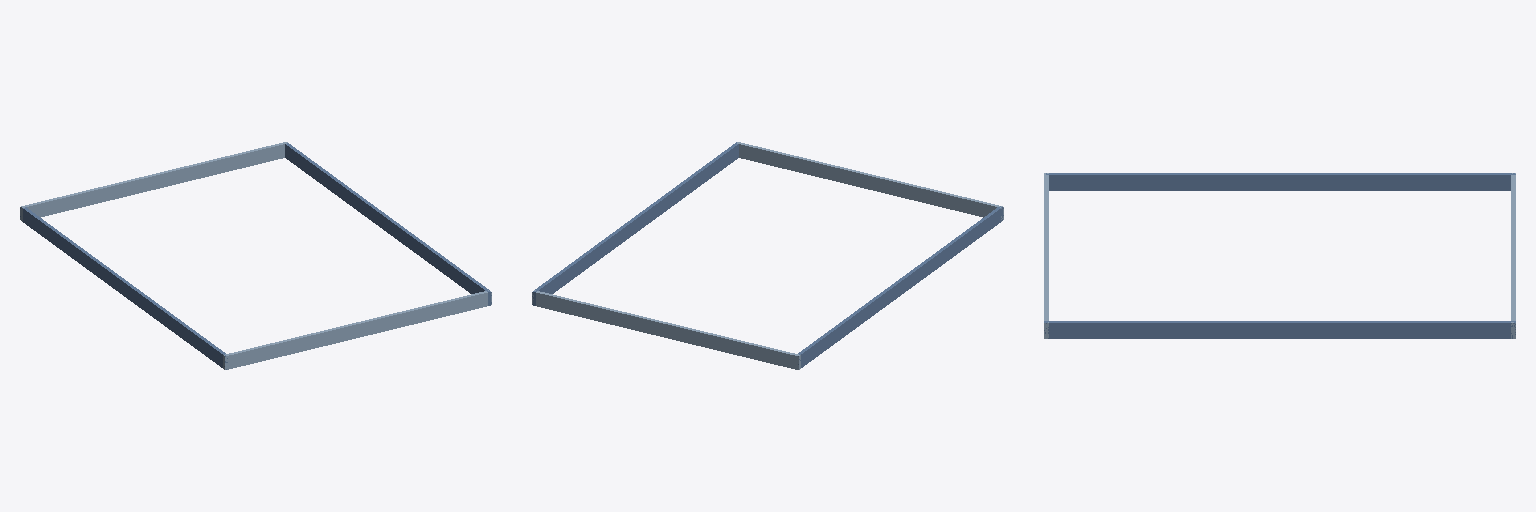
robot.urdf — small_room:
<?xml version="1.0"?>
<robot name="small_room">
  <!--
    A simple open-top room built from primitive boxes.
    Room footprint: 6m x 8m
    Wall height: 0.3m
    Wall thickness: 0.08m
    Visual style: cool gray / blue, intentionally not wooden.
  -->

  <material name="RoomFloor">
    <color rgba="0.88 0.89 0.91 1.0"/>
  </material>

  <material name="RoomWall">
    <color rgba="0.62 0.70 0.78 1.0"/>
  </material>

  <material name="RoomWallAccent">
    <color rgba="0.45 0.55 0.68 1.0"/>
  </material>

  <link name="base_link">
    <inertial>
      <origin xyz="0 0 0" rpy="0 0 0"/>
      <mass value="0.1"/>
      <inertia ixx="1e-4" ixy="0" ixz="0" iyy="1e-4" iyz="0" izz="1e-4"/>
    </inertial>
  </link>

  <!-- North wall -->
  <link name="north_wall">
    <inertial>
      <origin xyz="0 0 0" rpy="0 0 0"/>
      <mass value="2.0"/>
      <inertia ixx="0.02" ixy="0" ixz="0" iyy="0.02" iyz="0" izz="0.02"/>
    </inertial>
    <visual>
      <origin xyz="0 0 0" rpy="0 0 0"/>
      <geometry>
        <box size="6.0 0.08 0.3"/>
      </geometry>
      <material name="RoomWall"/>
    </visual>
    <collision>
      <origin xyz="0 0 0" rpy="0 0 0"/>
      <geometry>
        <box size="6.0 0.08 0.3"/>
      </geometry>
    </collision>
  </link>

  <joint name="north_wall_joint" type="fixed">
    <parent link="base_link"/>
    <child link="north_wall"/>
    <origin xyz="0 3.96 0.16" rpy="0 0 0"/>
  </joint>

  <!-- South wall -->
  <link name="south_wall">
    <inertial>
      <origin xyz="0 0 0" rpy="0 0 0"/>
      <mass value="2.0"/>
      <inertia ixx="0.02" ixy="0" ixz="0" iyy="0.02" iyz="0" izz="0.02"/>
    </inertial>
    <visual>
      <origin xyz="0 0 0" rpy="0 0 0"/>
      <geometry>
        <box size="6.0 0.08 0.3"/>
      </geometry>
      <material name="RoomWall"/>
    </visual>
    <collision>
      <origin xyz="0 0 0" rpy="0 0 0"/>
      <geometry>
        <box size="6.0 0.08 0.3"/>
      </geometry>
    </collision>
  </link>

  <joint name="south_wall_joint" type="fixed">
    <parent link="base_link"/>
    <child link="south_wall"/>
    <origin xyz="0 -3.96 0.16" rpy="0 0 0"/>
  </joint>

  <!-- East wall -->
  <link name="east_wall">
    <inertial>
      <origin xyz="0 0 0" rpy="0 0 0"/>
      <mass value="2.0"/>
      <inertia ixx="0.02" ixy="0" ixz="0" iyy="0.02" iyz="0" izz="0.02"/>
    </inertial>
    <visual>
      <origin xyz="0 0 0" rpy="0 0 0"/>
      <geometry>
        <box size="0.08 8.0 0.3"/>
      </geometry>
      <material name="RoomWallAccent"/>
    </visual>
    <collision>
      <origin xyz="0 0 0" rpy="0 0 0"/>
      <geometry>
        <box size="0.08 8.0 0.3"/>
      </geometry>
    </collision>
  </link>

  <joint name="east_wall_joint" type="fixed">
    <parent link="base_link"/>
    <child link="east_wall"/>
    <origin xyz="2.96 0 0.16" rpy="0 0 0"/>
  </joint>

  <!-- West wall -->
  <link name="west_wall">
    <inertial>
      <origin xyz="0 0 0" rpy="0 0 0"/>
      <mass value="2.0"/>
      <inertia ixx="0.02" ixy="0" ixz="0" iyy="0.02" iyz="0" izz="0.02"/>
    </inertial>
    <visual>
      <origin xyz="0 0 0" rpy="0 0 0"/>
      <geometry>
        <box size="0.08 8.0 0.3"/>
      </geometry>
      <material name="RoomWallAccent"/>
    </visual>
    <collision>
      <origin xyz="0 0 0" rpy="0 0 0"/>
      <geometry>
        <box size="0.08 8.0 0.3"/>
      </geometry>
    </collision>
  </link>

  <joint name="west_wall_joint" type="fixed">
    <parent link="base_link"/>
    <child link="west_wall"/>
    <origin xyz="-2.96 0 0.16" rpy="0 0 0"/>
  </joint>
</robot>

--- Render facts (derived) ---
Views: 3 orthographic renders of the robot side by side, from view 1: azimuth 30°, elevation 25°; view 2: azimuth 150°, elevation 25°; view 3: azimuth 270°, elevation 25°.
Model small_room with 5 links and 4 joints (4 fixed), rooted at base_link, posed every joint at zero.
Visible links, largest first — view 1: south_wall, north_wall, west_wall, east_wall; view 2: north_wall, south_wall, west_wall, east_wall; view 3: east_wall, west_wall, south_wall, north_wall.
Boxes of the visible links, x1=… form: south_wall: x1=223, y1=290, x2=491, y2=369; north_wall: x1=20, y1=142, x2=287, y2=221; west_wall: x1=20, y1=207, x2=227, y2=369; east_wall: x1=285, y1=143, x2=491, y2=305; north_wall: x1=532, y1=290, x2=800, y2=369; south_wall: x1=737, y1=142, x2=1003, y2=221; west_wall: x1=798, y1=206, x2=1003, y2=367; east_wall: x1=532, y1=142, x2=738, y2=305; east_wall: x1=1044, y1=321, x2=1515, y2=338; west_wall: x1=1046, y1=173, x2=1515, y2=190; south_wall: x1=1044, y1=173, x2=1048, y2=338; north_wall: x1=1511, y1=173, x2=1515, y2=338.
Bounding box of the posed robot: 6 × 8 × 0.3 m (x, y, z).
Geometry: primitives only (box / cylinder / sphere), no mesh files.
